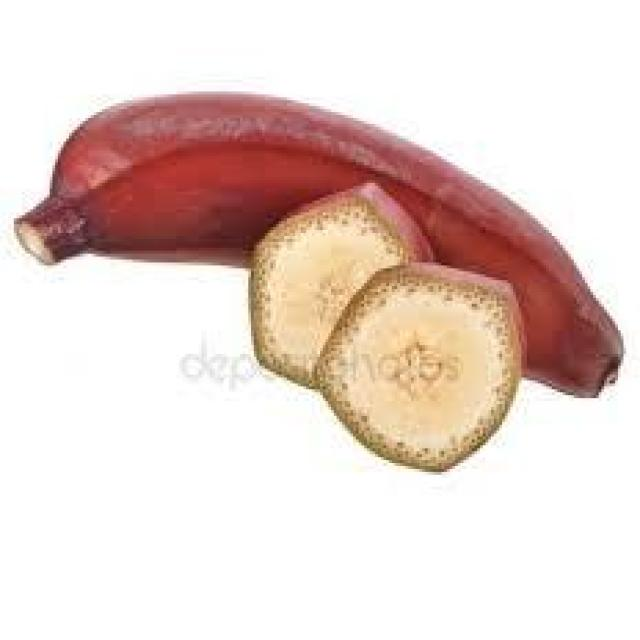organic: (14, 91, 623, 475)
